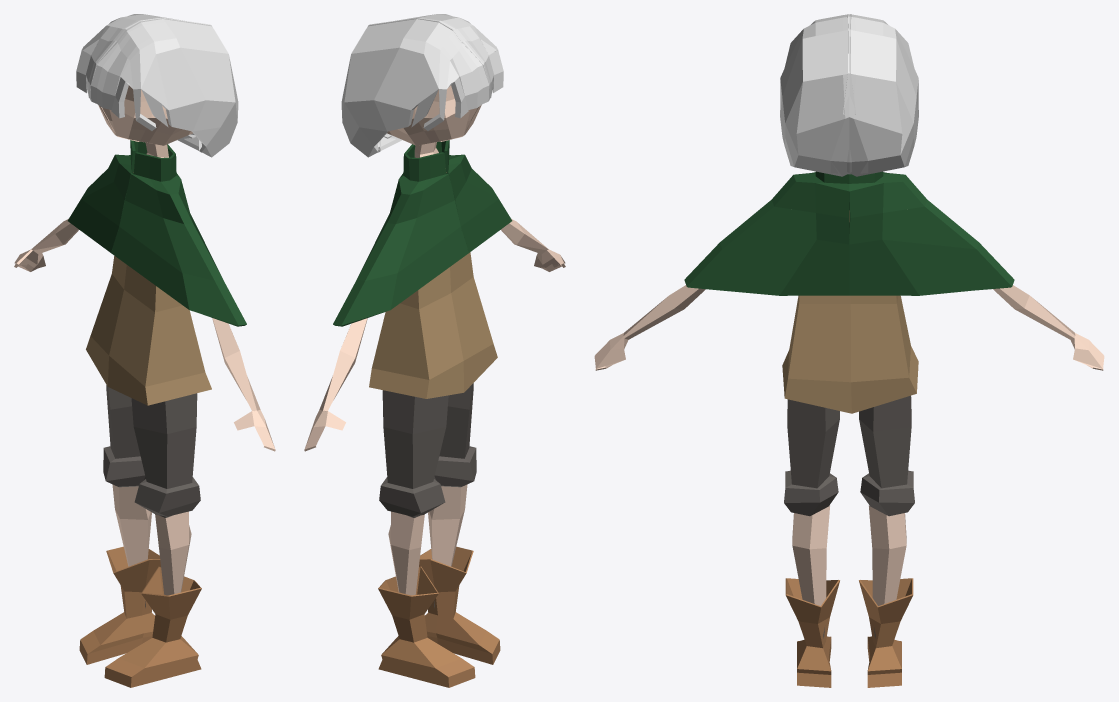
The model's file is sniper.fbx.
3 renders of one model, left to right at view 1: azimuth 30°, elevation 25°; view 2: azimuth 150°, elevation 25°; view 3: azimuth 270°, elevation 25°, orthographic. The views are drawn at different scales.
Visible parts, largest first — view 1: hair, cape, legs, clothes, shoes, hands, head; view 2: hair, cape, legs, clothes, shoes, hands, head; view 3: cape, hair, legs, clothes, shoes, hands.
Part boxes in pixels (x1,y1,x2,y2): hair: [76, 14, 238, 157]; cape: [67, 140, 246, 326]; legs: [103, 385, 200, 607]; clothes: [86, 172, 211, 405]; shoes: [79, 546, 201, 687]; hands: [14, 219, 275, 451]; head: [98, 85, 192, 145]; hair: [341, 14, 503, 157]; cape: [333, 140, 512, 326]; legs: [379, 383, 476, 607]; clothes: [369, 172, 497, 398]; shoes: [378, 546, 500, 687]; hands: [304, 219, 565, 451]; head: [387, 85, 481, 145]; cape: [684, 171, 1014, 295]; hair: [780, 14, 918, 176]; legs: [784, 395, 914, 638]; clothes: [782, 210, 918, 413]; shoes: [785, 578, 913, 687]; hands: [594, 285, 1104, 370].
Size of the model in its own units: 96.04 by 442 by 313.
